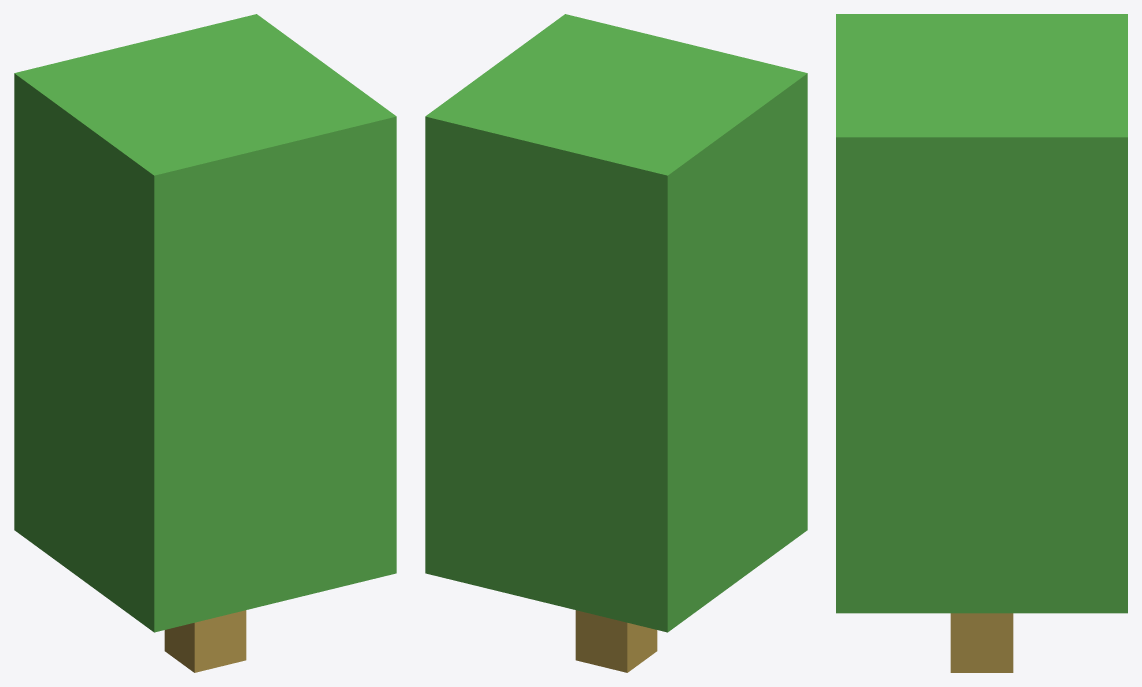
The model's file is Tree_1.fbx.
3 renders of one model, left to right at view 1: azimuth 30°, elevation 25°; view 2: azimuth 150°, elevation 25°; view 3: azimuth 270°, elevation 25°, orthographic. The views are drawn at different scales.
Visible parts, largest first — view 1: Tree_1; view 2: Tree_1; view 3: Tree_1.
Part boxes in pixels (bbox=[...]): Tree_1: bbox=[14, 14, 396, 672]; Tree_1: bbox=[425, 14, 807, 672]; Tree_1: bbox=[836, 14, 1127, 672].
Bounding box in the file's own units: 0.5932 × 1.31 × 0.5932.
